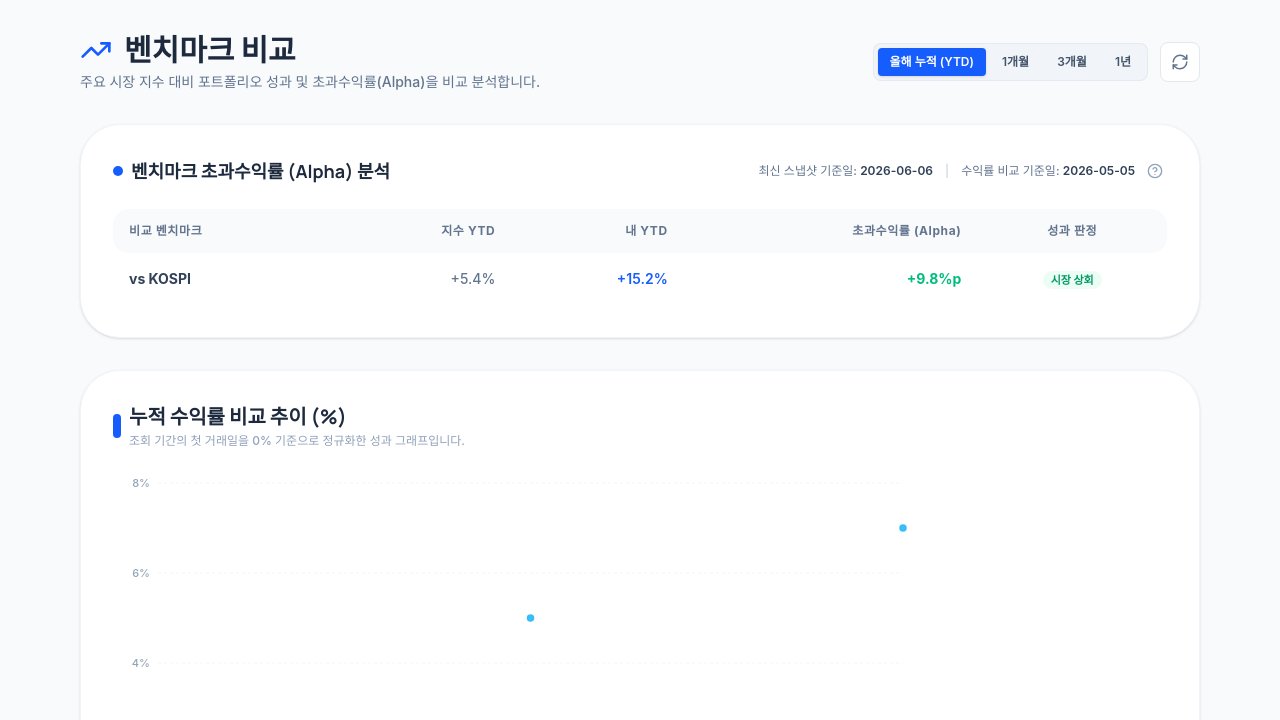
Test case: BenchmarkPage › 도움말 버튼 클릭 시 3단 설명 팝오버가 열리고, 닫기 버튼 클릭 또는 외부 클릭 시 닫힌다
The width and height of the screenshot is (1280, 720).
Expected: the text "왜 필요한가요?" is not shown
Click the button named "기준일 안내" at coordinates (1155, 171), box [1143,159,1167,183]
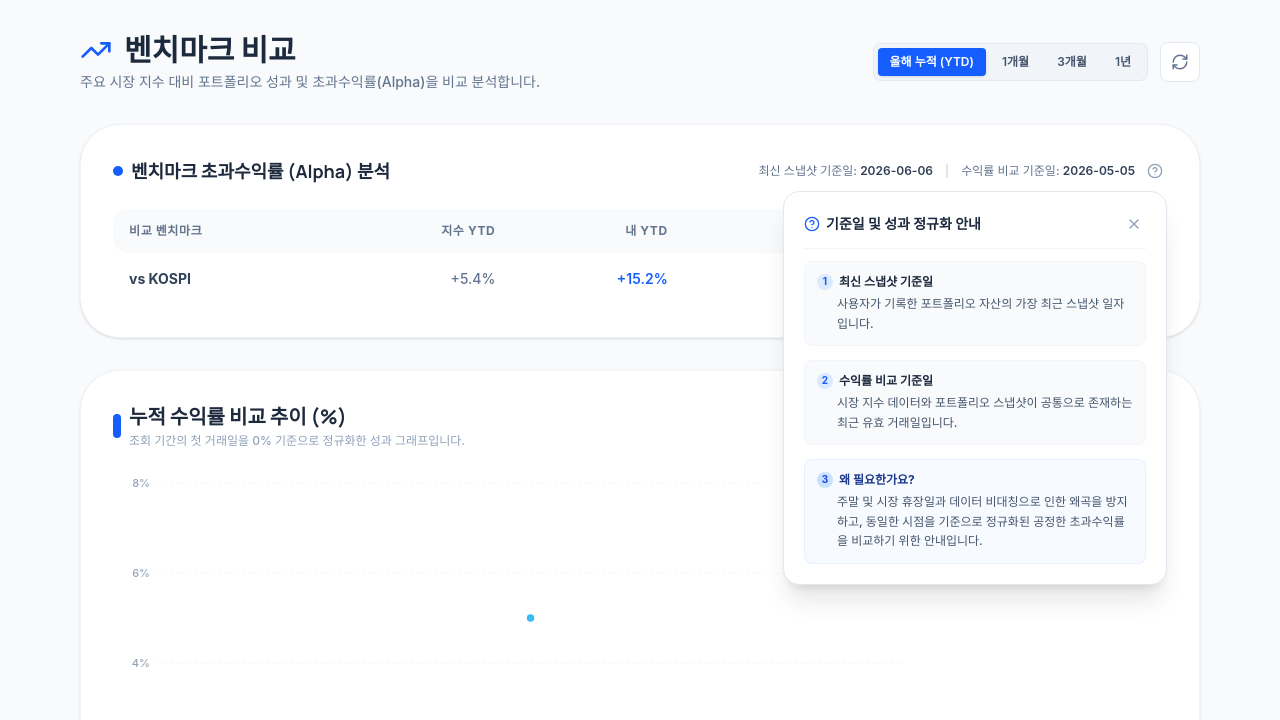
Expected: the heading "1 최신 스냅샷 기준일" is shown, [817,274,933,290]
Expected: the text "사용자가 기록한 포트폴리오 자산의 가장 최근 스냅샷 일자입니다." is shown, [817,294,1133,333]
Expected: the heading "2 수익률 비교 기준일" is shown, [817,373,933,389]
Click the button named "닫기" at coordinates (1134, 224), box [1122,212,1146,236]
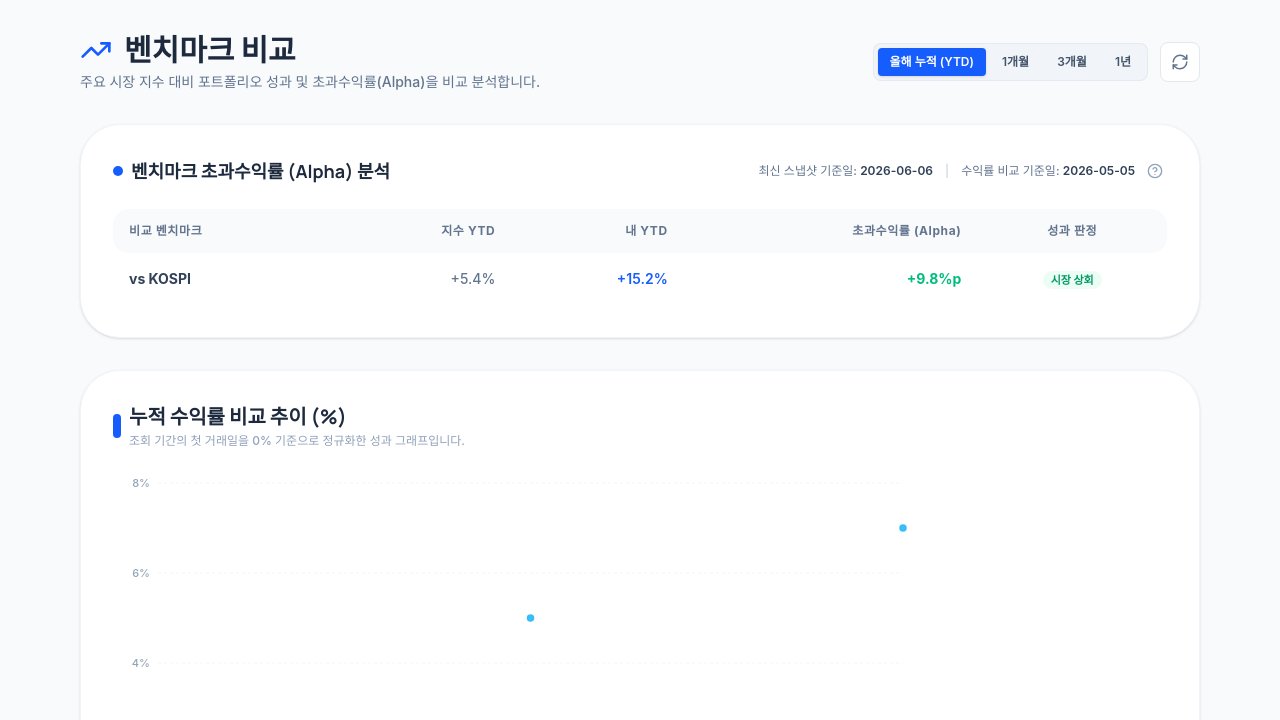
Expected: the heading "왜 필요한가요?" is gone
Click the button named "기준일 안내" at coordinates (1155, 171), box [1143,159,1167,183]
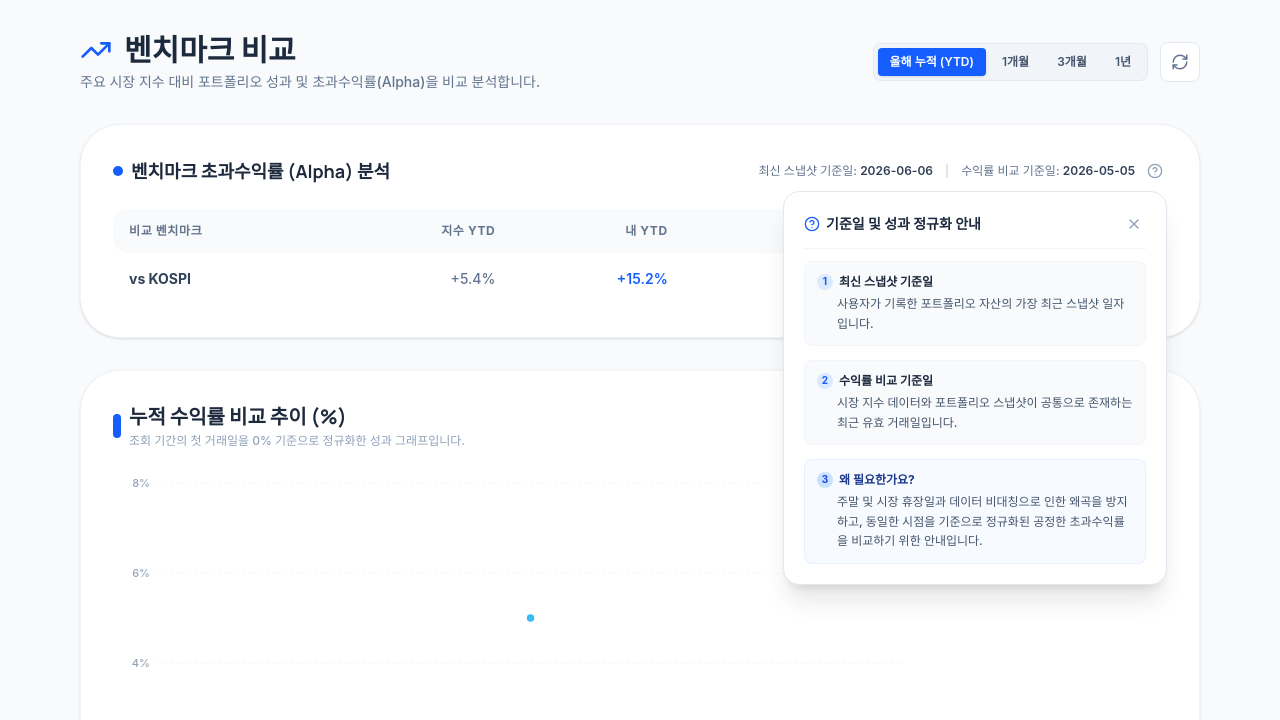
Expected: the heading "3 왜 필요한가요?" is shown, [817,472,915,488]
Press Escape
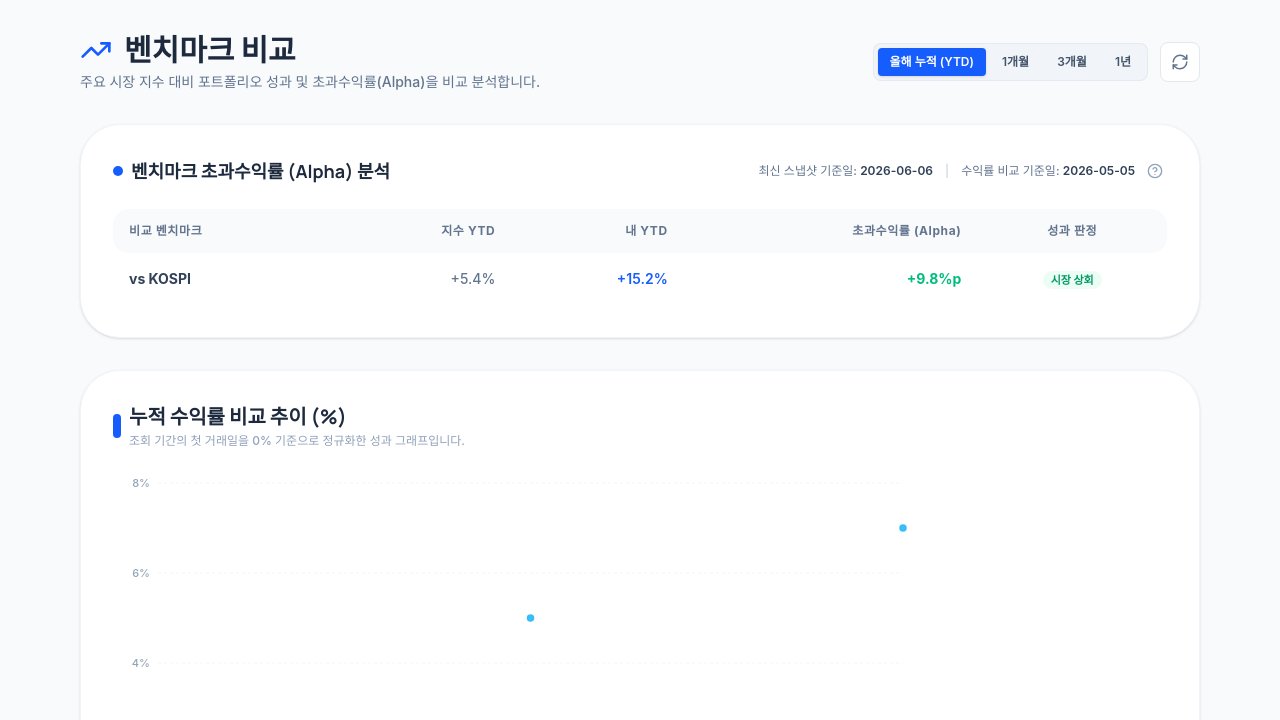
Expected: the heading "왜 필요한가요?" is gone
Click the button named "기준일 안내" at coordinates (1155, 171), box [1143,159,1167,183]
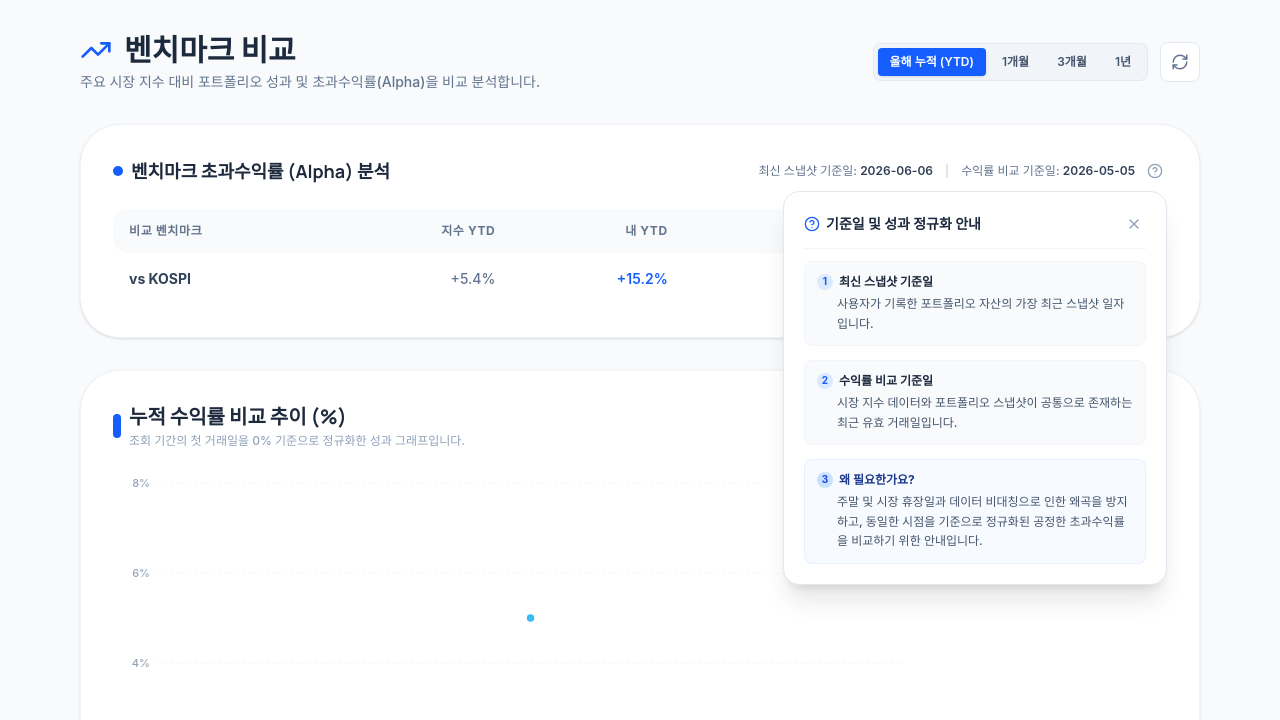
Expected: the heading "3 왜 필요한가요?" is shown, [817,472,915,488]
Press the mouse on the element that starts with "벤치마크 비교" at coordinates (640, 360), box [0,0,1279,719]
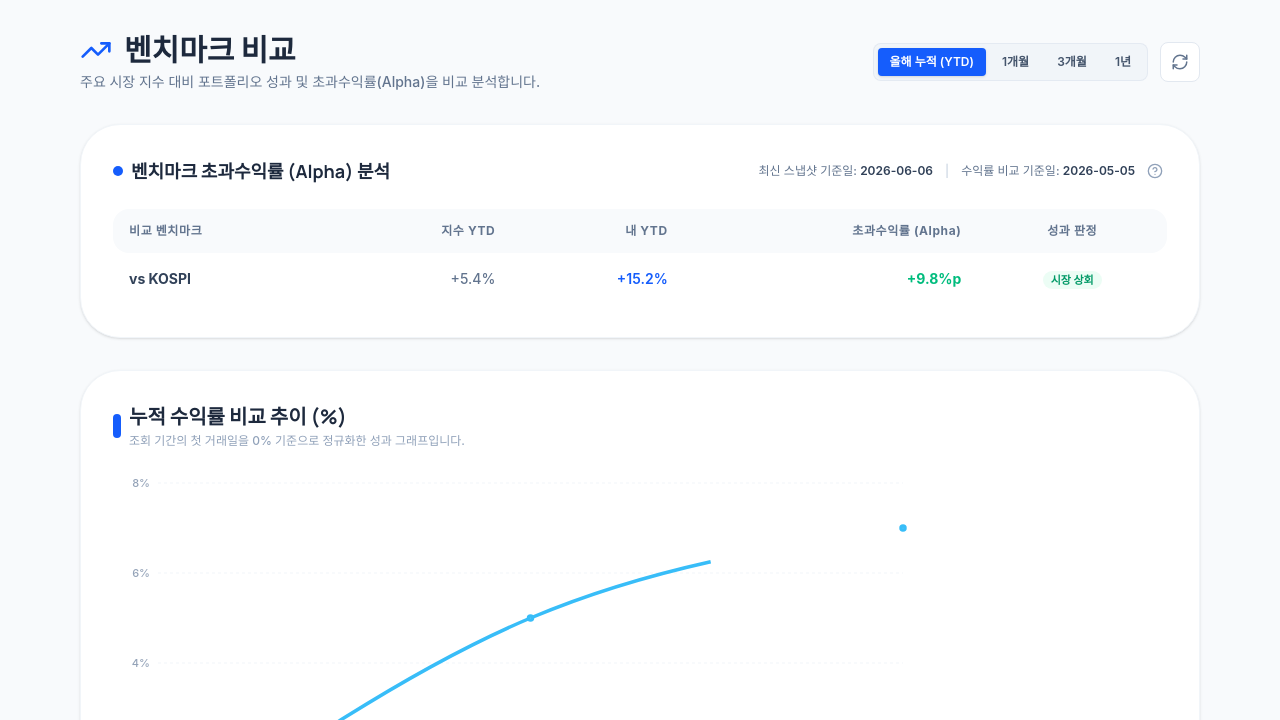
Expected: the heading "왜 필요한가요?" is gone
